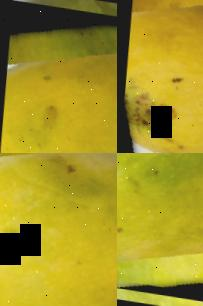PartiallyRipe: (0, 153, 117, 306), (0, 5, 117, 153), (117, 153, 203, 302)
Ripe: (117, 0, 203, 153)
